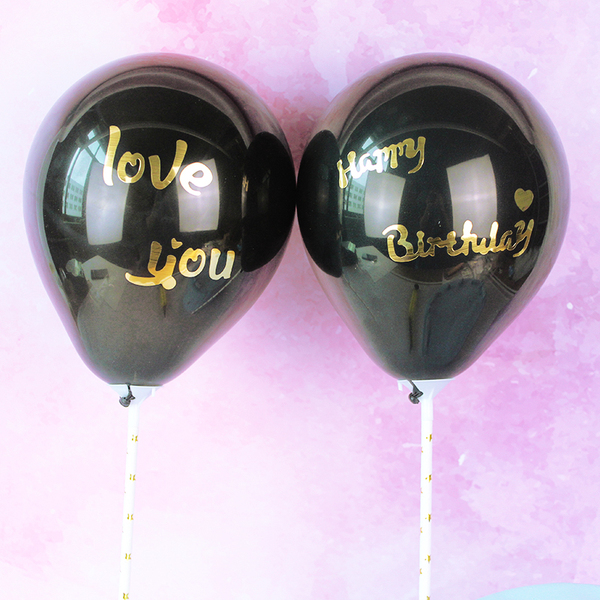balloon: (15, 49, 298, 400), (300, 53, 571, 403)
